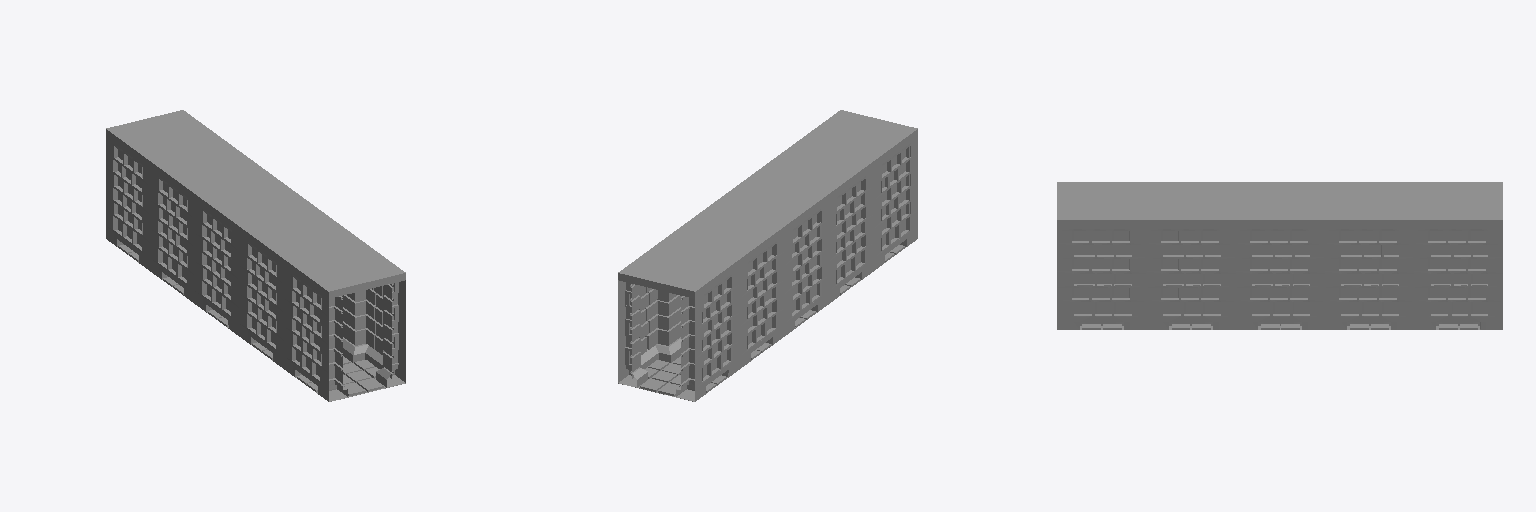
File: Alledroite.obj
3 renders of one model, left to right at view 1: azimuth 30°, elevation 25°; view 2: azimuth 150°, elevation 25°; view 3: azimuth 270°, elevation 25°, orthographic.
Visible parts, largest first — view 1: Sol.002_Plane.080, Sol.003_Plane.081, Sol.001_Plane.078, Sol.004_Plane.082, Sol.009_Plane.087; view 2: Sol.009_Plane.087, Sol.001_Plane.078, Sol.004_Plane.082, Sol.002_Plane.080, Sol.003_Plane.081; view 3: Sol.003_Plane.081, Sol.004_Plane.082, Sol.009_Plane.087, Sol.002_Plane.080, Sol.001_Plane.078.
Part boxes in pixels (left/top/right/bottom): Sol.002_Plane.080: left=284, top=240, right=405, bottom=401; Sol.003_Plane.081: left=239, top=208, right=359, bottom=368; Sol.001_Plane.078: left=150, top=142, right=271, bottom=303; Sol.004_Plane.082: left=195, top=175, right=316, bottom=336; Sol.009_Plane.087: left=106, top=110, right=226, bottom=270; Sol.009_Plane.087: left=618, top=240, right=739, bottom=401; Sol.001_Plane.078: left=664, top=208, right=784, bottom=368; Sol.004_Plane.082: left=707, top=175, right=828, bottom=336; Sol.002_Plane.080: left=797, top=110, right=917, bottom=271; Sol.003_Plane.081: left=752, top=142, right=873, bottom=303; Sol.003_Plane.081: left=1146, top=182, right=1235, bottom=329; Sol.004_Plane.082: left=1235, top=182, right=1324, bottom=329; Sol.009_Plane.087: left=1414, top=182, right=1502, bottom=329; Sol.002_Plane.080: left=1057, top=182, right=1145, bottom=329; Sol.001_Plane.078: left=1325, top=182, right=1413, bottom=329.
Bounding box in the file's own units: 0.7885 × 1.07 × 3.92.